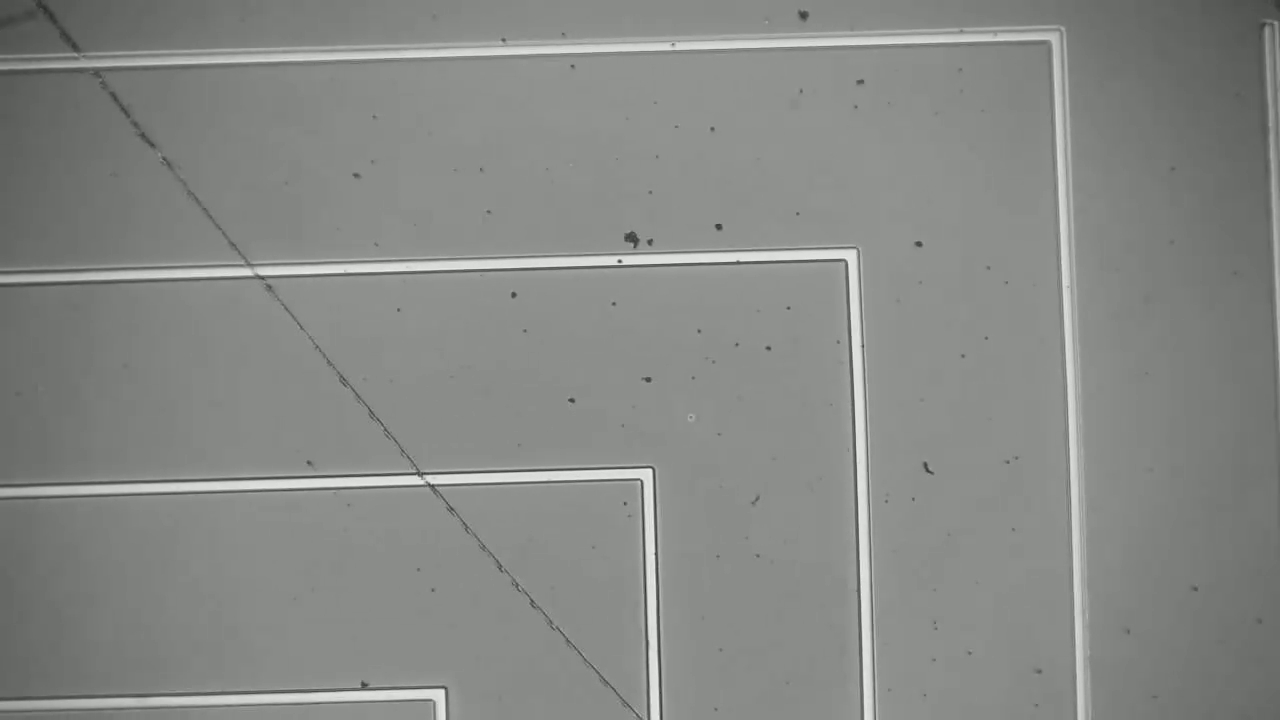scratch: (35, 18, 652, 717)
